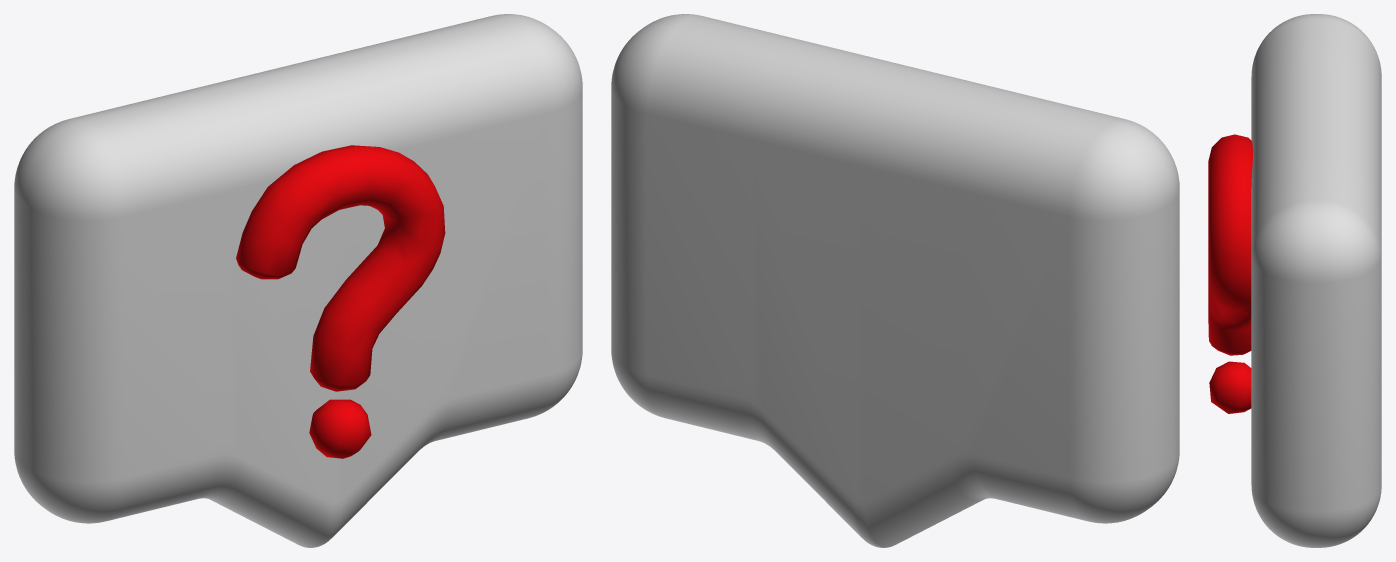
File: question.fbx
3 views of the same model, side by side, from view 1: azimuth 30°, elevation 25°; view 2: azimuth 150°, elevation 25°; view 3: azimuth 270°, elevation 25° (orthographic). The views are drawn at different scales.
Visible parts, largest first — view 1: Cube.003, Cube; view 2: Cube.003; view 3: Cube.003, Cube.
Part boxes in pixels (left/top/right/bottom): Cube.003: left=14, top=14, right=582, bottom=547; Cube: left=236, top=145, right=445, bottom=458; Cube.003: left=611, top=14, right=1179, bottom=547; Cube.003: left=1251, top=14, right=1381, bottom=547; Cube: left=1208, top=134, right=1252, bottom=413.
Bounding box in the file's own units: 401 × 329 × 126.
